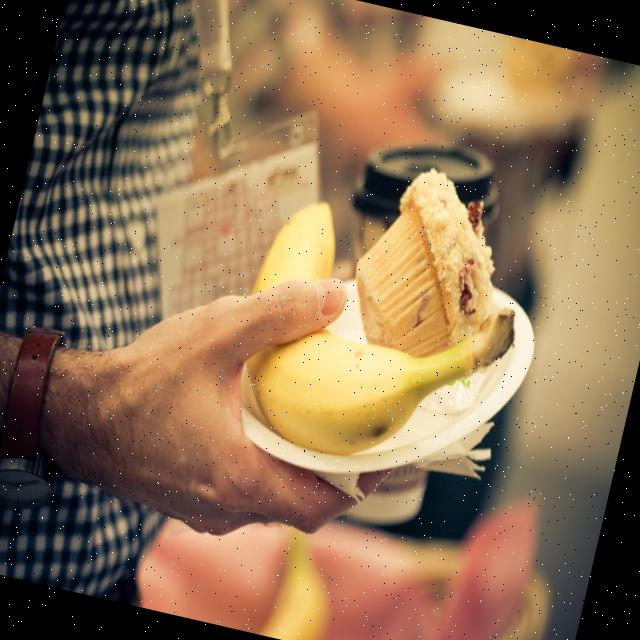banana: (242, 320, 510, 457)
